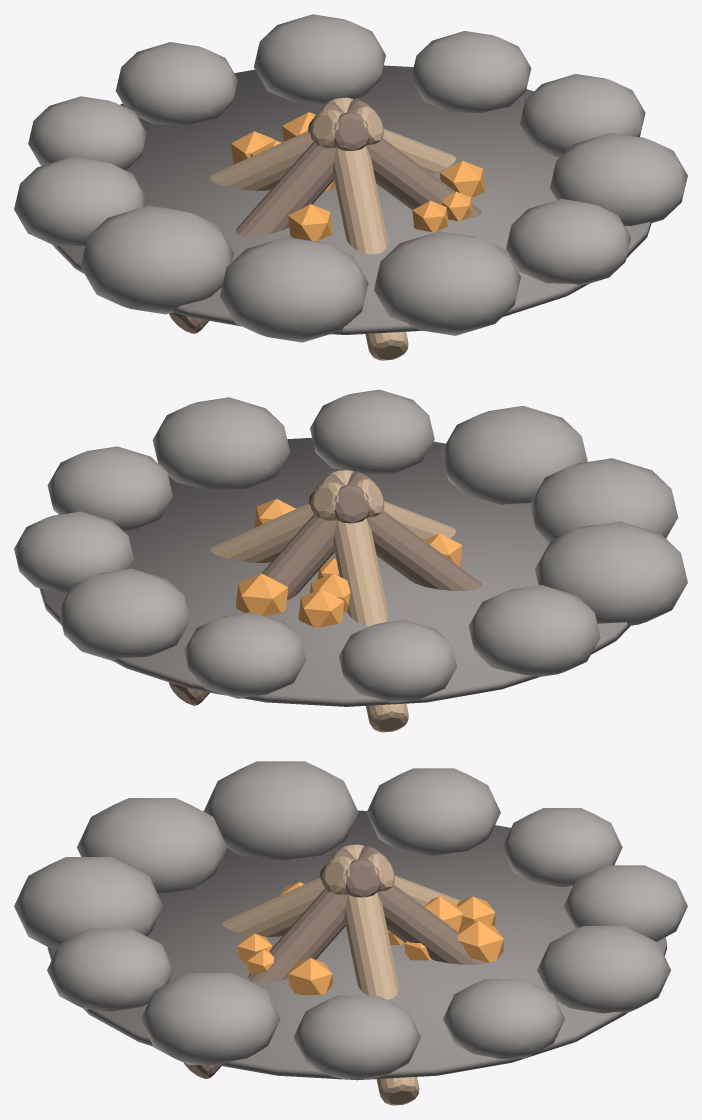
The model's file is camp_fire_v2.glb.
3 views of the same model, one above another, from view 1: azimuth 30°, elevation 25°; view 2: azimuth 150°, elevation 25°; view 3: azimuth 270°, elevation 25° (orthographic).
Visible parts, largest first — view 1: camp_fire_v2; view 2: camp_fire_v2; view 3: camp_fire_v2.
Boxes of the visible parts, x1,y1,x2,y2 form: camp_fire_v2: [14, 14, 687, 360]; camp_fire_v2: [14, 389, 687, 732]; camp_fire_v2: [14, 761, 687, 1105].
Bounding box in the file's own units: 2.26 × 0.6269 × 2.29.
